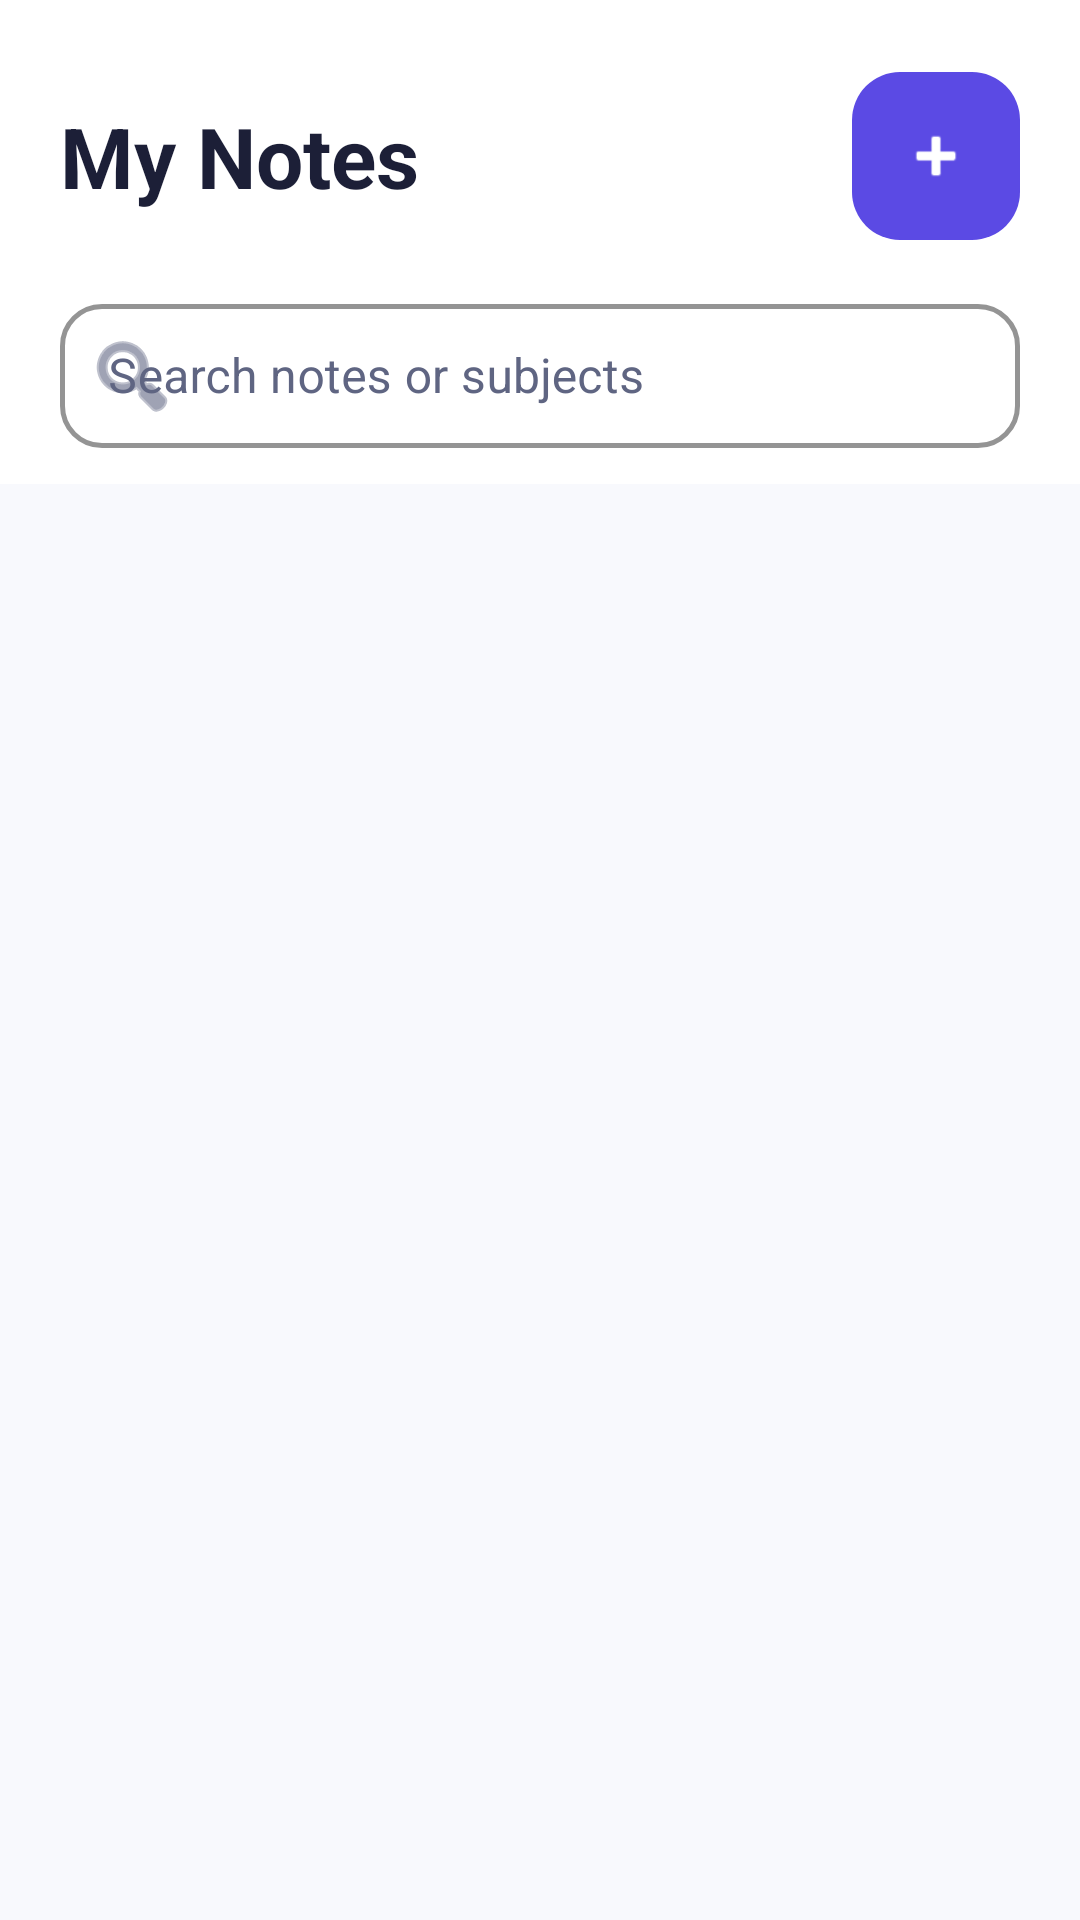

Point at icon controls on the screen. Image size 1080w x 1920h, points as (x,y).
add: (936,156)
